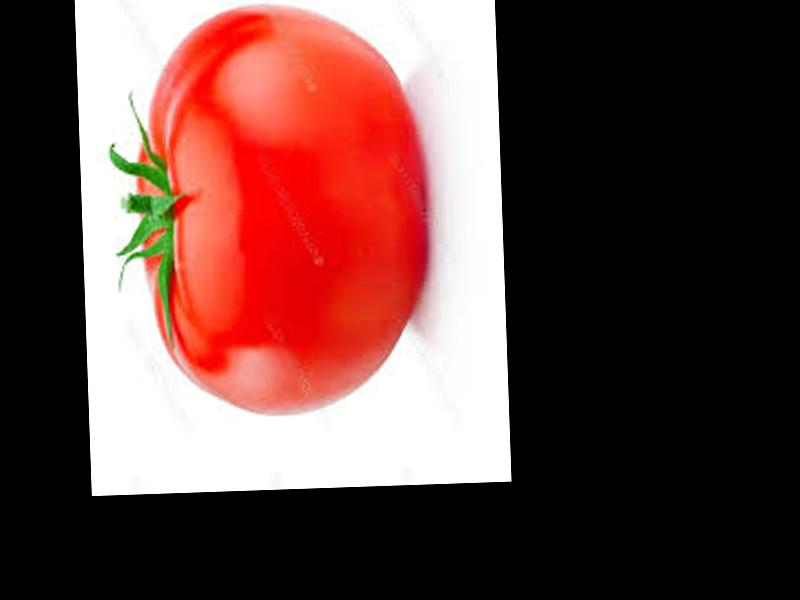Tomato: (131, 0, 424, 420)
